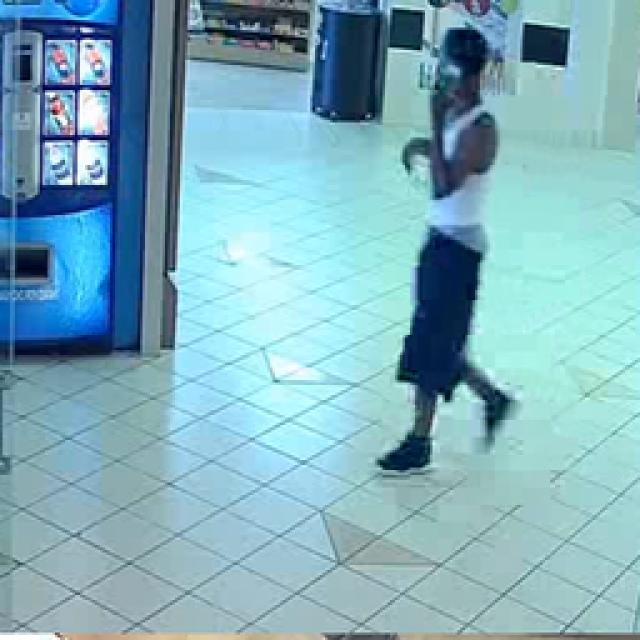person: (370, 25, 522, 480)
